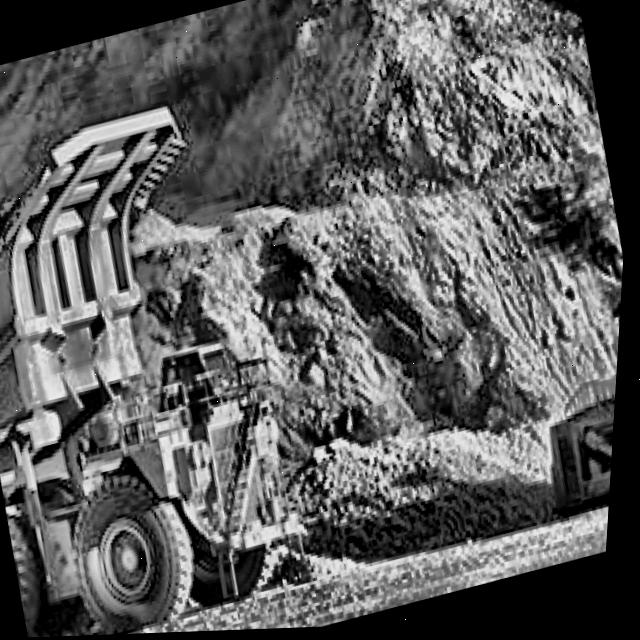buldozerpayloadergrader: (481, 256, 627, 559)
dump_truck: (0, 56, 378, 640)
